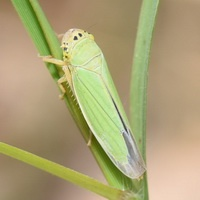insect: (43, 28, 145, 178)
